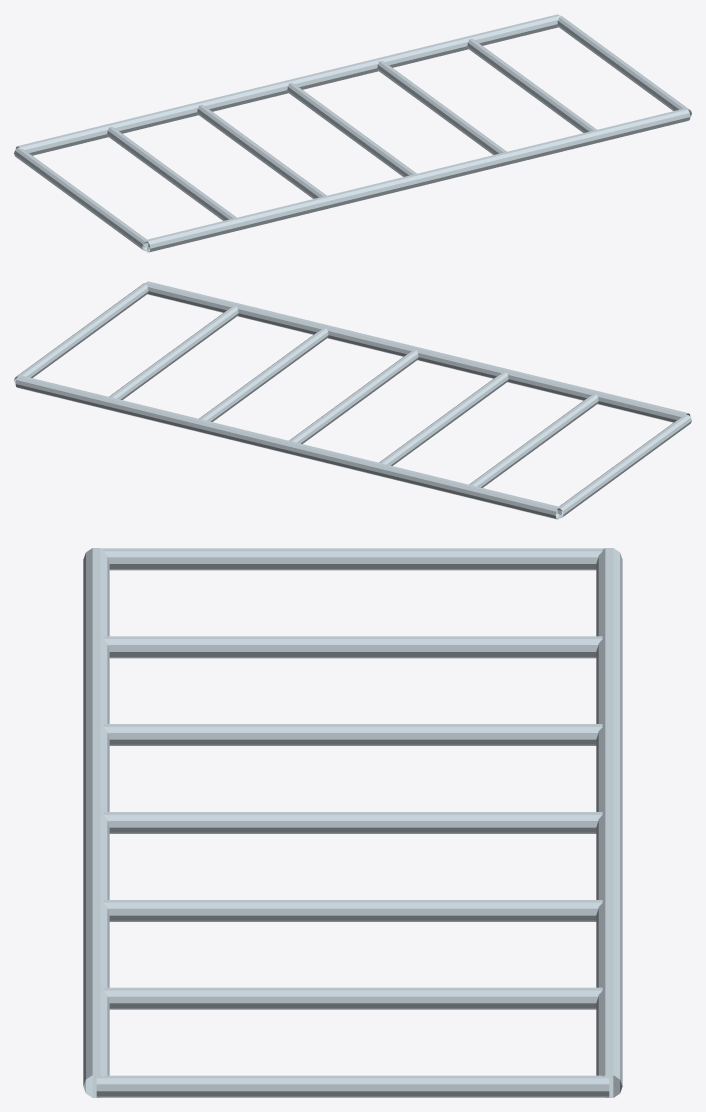
File: B1_source_exterior.glb
The picture shows the model from 3 angles, top to bottom: view 1: azimuth 30°, elevation 25°; view 2: azimuth 150°, elevation 25°; view 3: azimuth 270°, elevation 25°; orthographic projection. The views are drawn at different scales.
Parts seen in each view (by area): view 1: Structural_deck_system; view 2: Structural_deck_system; view 3: Structural_deck_system.
Part boxes in pixels (x1=…): Structural_deck_system: x1=14, y1=14, x2=691, y2=252; Structural_deck_system: x1=14, y1=281, x2=691, y2=519; Structural_deck_system: x1=83, y1=548, x2=622, y2=1097.
Bounding box in the file's own units: 36.64 × 0.7228 × 15.56.
